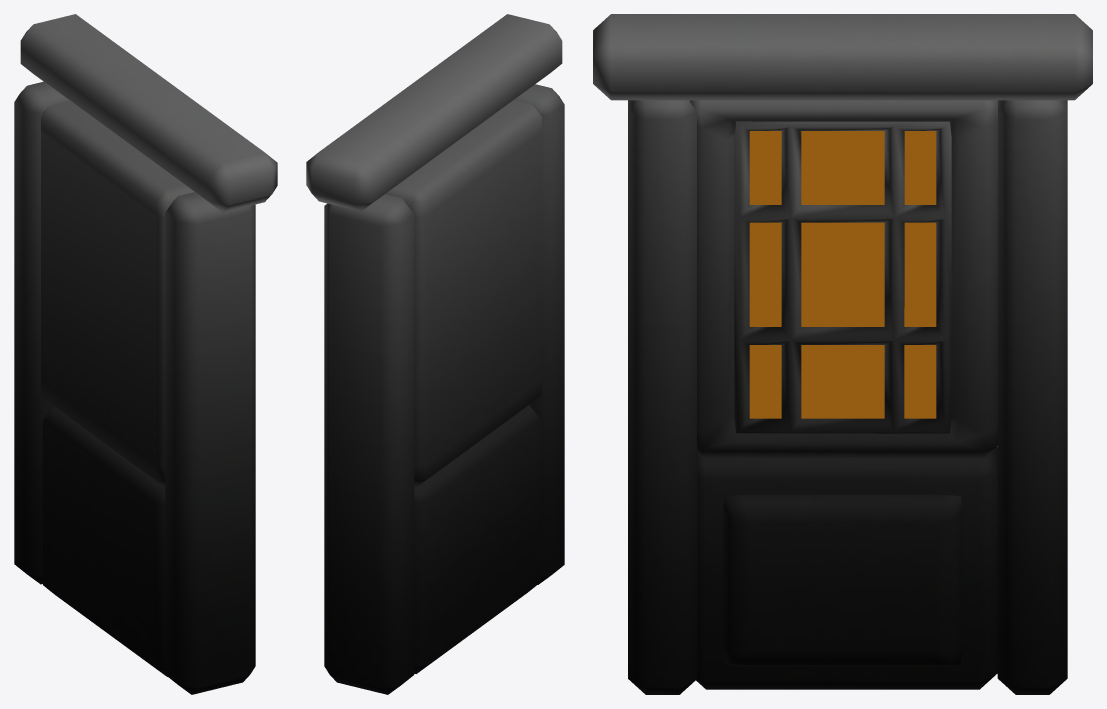
Rendered from SM_Stone_Door_07.fbx.
3 views of the same model, side by side, from view 1: azimuth 30°, elevation 25°; view 2: azimuth 150°, elevation 25°; view 3: azimuth 270°, elevation 25° (orthographic). The views are drawn at different scales.
Visible parts, largest first — view 1: SM_Stone_Door_07; view 2: SM_Stone_Door_07; view 3: SM_Stone_Door_07.
Boxes of the visible parts, x1=… form: SM_Stone_Door_07: x1=14, y1=14, x2=277, y2=694; SM_Stone_Door_07: x1=306, y1=14, x2=564, y2=694; SM_Stone_Door_07: x1=593, y1=14, x2=1092, y2=694.
Bounding box in the file's own units: 0.0958 × 0.584 × 0.4008.
